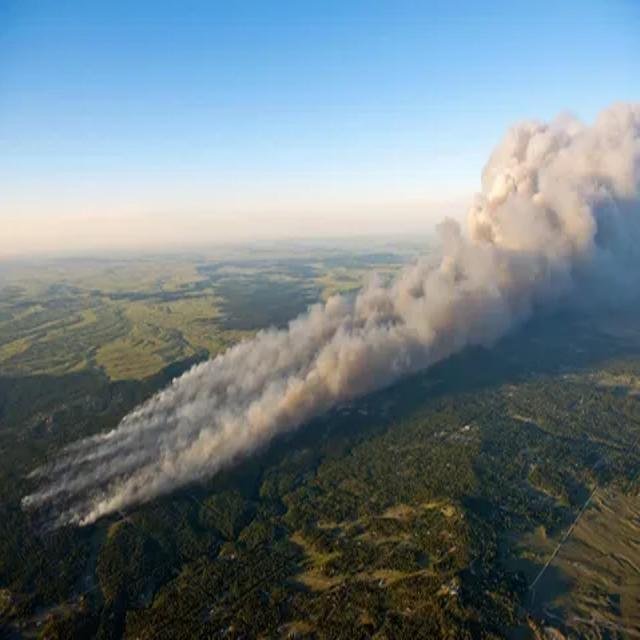Smoke: (23, 99, 640, 525)
